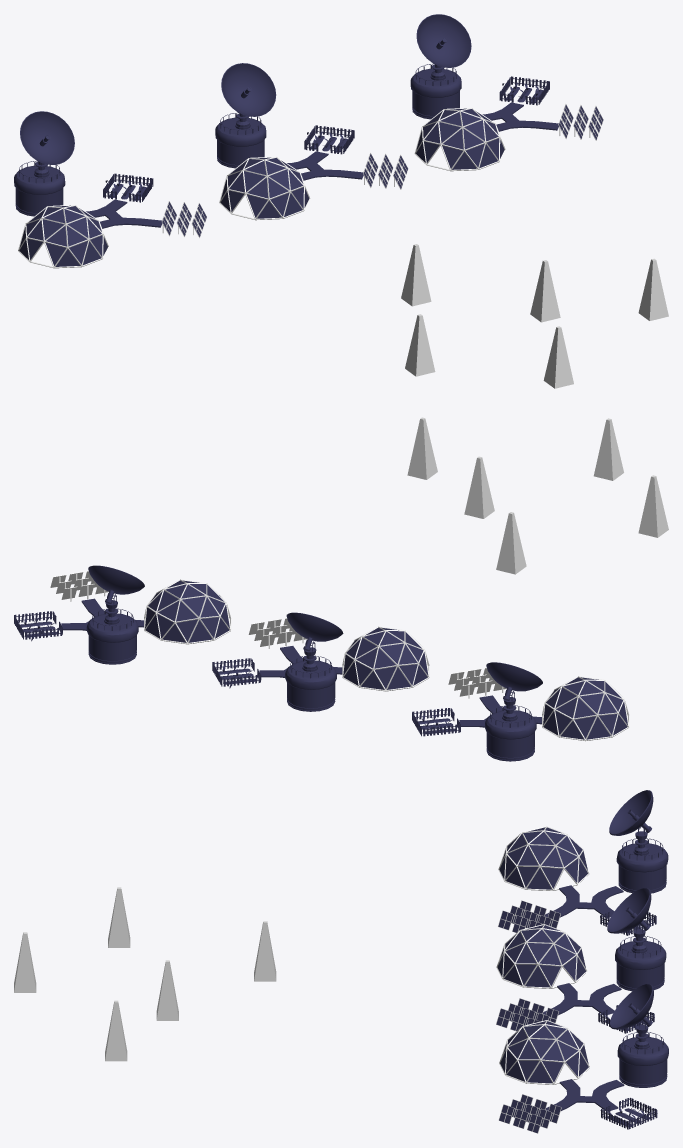
Rendered from Volumetria.fbx.
3 views of the same model, one above another, from view 1: azimuth 30°, elevation 25°; view 2: azimuth 150°, elevation 25°; view 3: azimuth 270°, elevation 25° (orthographic).
Visible parts, largest first — view 1: Dome.002, Dome.004, Dome.001, Cube.001, Cube.002, Cube.005, Cube.003, Cube.004; view 2: Dome.004, Dome.002, Dome.001, Cube.003, Cube.005, Cube.001, Cube.004, Cube.002; view 3: Dome.002, Dome.001, Dome.004, Cube.004, Cube.005, Cube.002, Cube.003, Cube.001.
Boxes of the visible parts, box(x1,y1,x2,y2) form: Dome.002: box(410, 14, 603, 171); Dome.004: box(215, 63, 408, 220); Dome.001: box(14, 111, 206, 268); Cube.001: box(405, 314, 435, 376); Cube.002: box(543, 326, 573, 388); Cube.005: box(401, 244, 431, 306); Cube.003: box(530, 260, 560, 322); Cube.004: box(638, 258, 668, 320); Dome.004: box(212, 612, 429, 711); Dome.002: box(14, 565, 231, 664); Dome.001: box(412, 662, 629, 761); Cube.003: box(464, 456, 494, 518); Cube.005: box(496, 512, 526, 574); Cube.001: box(638, 475, 668, 537); Cube.004: box(407, 417, 437, 479); Cube.002: box(593, 418, 623, 480); Dome.002: box(498, 984, 668, 1133); Dome.001: box(498, 790, 668, 935); Dome.004: box(496, 888, 666, 1033); Cube.004: box(105, 1000, 127, 1061); Cube.005: box(254, 921, 276, 981); Cube.002: box(14, 932, 36, 992); Cube.003: box(156, 960, 178, 1020); Cube.001: box(108, 887, 130, 947).
Size of what is drawn, in the model's own units: 1129 by 172 by 1111.
